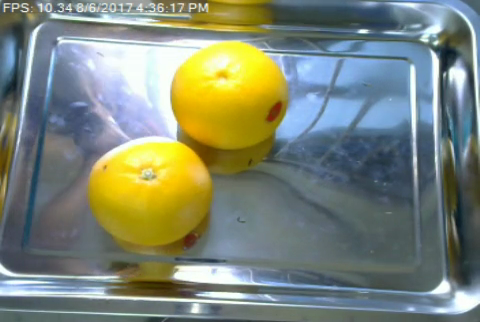Orange: (86, 137, 211, 244), (169, 41, 287, 151)
